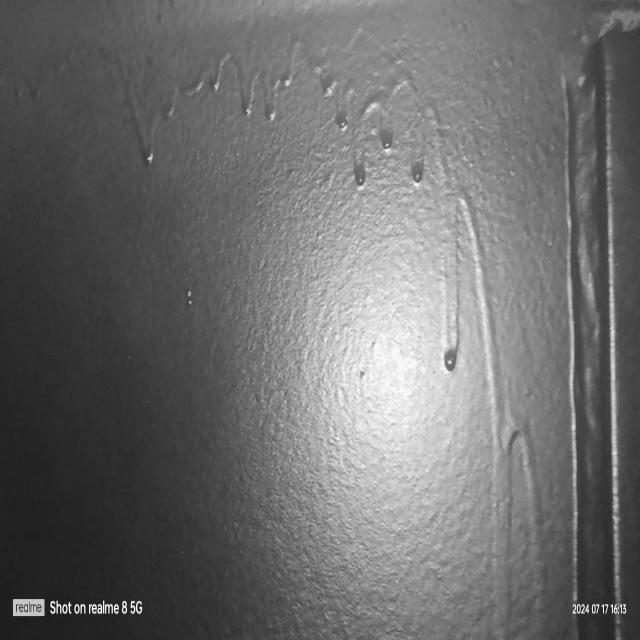paint drips: (0, 0, 561, 383)
